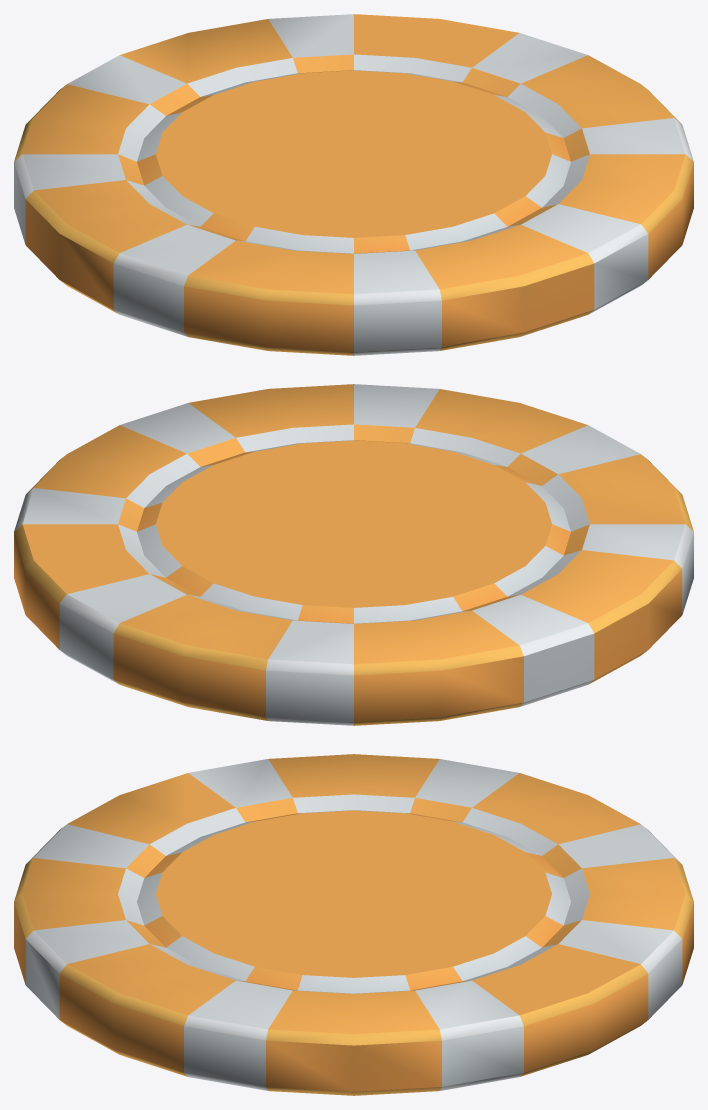
File: chip_B_yellow.obj
3 views of the same model, one above another, from view 1: azimuth 30°, elevation 25°; view 2: azimuth 150°, elevation 25°; view 3: azimuth 270°, elevation 25° (orthographic).
Visible parts, largest first — view 1: chip_B_yellow; view 2: chip_B_yellow; view 3: chip_B_yellow.
Part boxes in pixels (x1,y1,x2,y2): chip_B_yellow: (14,14,693,355); chip_B_yellow: (14,384,693,725); chip_B_yellow: (14,754,693,1095).
Bounding box in the file's own units: 3 × 0.3 × 3.
Materials: 1 (1 with a texture image).
